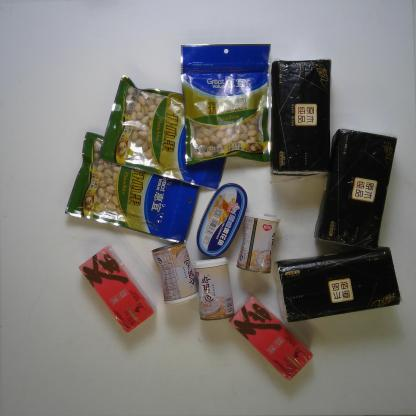Canned Food: (194, 182, 248, 258), (151, 239, 200, 307), (234, 210, 281, 274), (193, 257, 234, 321)
Dried Fruit: (99, 74, 230, 190), (63, 132, 198, 244), (179, 42, 270, 166)
Instant Drink: (228, 295, 313, 382), (76, 245, 158, 333)
Tissue: (313, 128, 398, 251), (273, 245, 402, 324), (267, 58, 333, 178)
